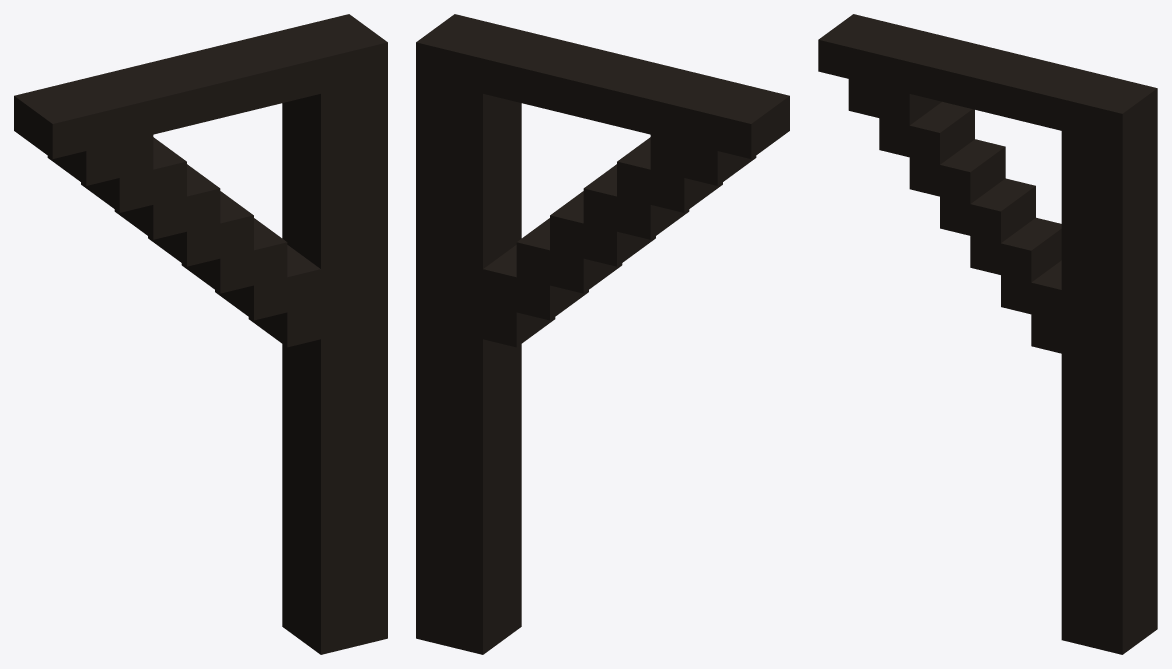
Rendered from tavern-52-pillar_wood3.obj.
3 views of the same model, side by side, from view 1: azimuth 30°, elevation 25°; view 2: azimuth 150°, elevation 25°; view 3: azimuth 330°, elevation 25° (orthographic). The views are drawn at different scales.
Visible parts, largest first — view 1: pillar_wood3; view 2: pillar_wood3; view 3: pillar_wood3.
Part boxes in pixels (<box>): pillar_wood3: <box>14,14,387,654</box>; pillar_wood3: <box>416,14,789,654</box>; pillar_wood3: <box>818,14,1157,654</box>.
Bounding box in the file's own units: 1 × 1.7 × 0.2.
Materials: 1 (1 with a texture image).
